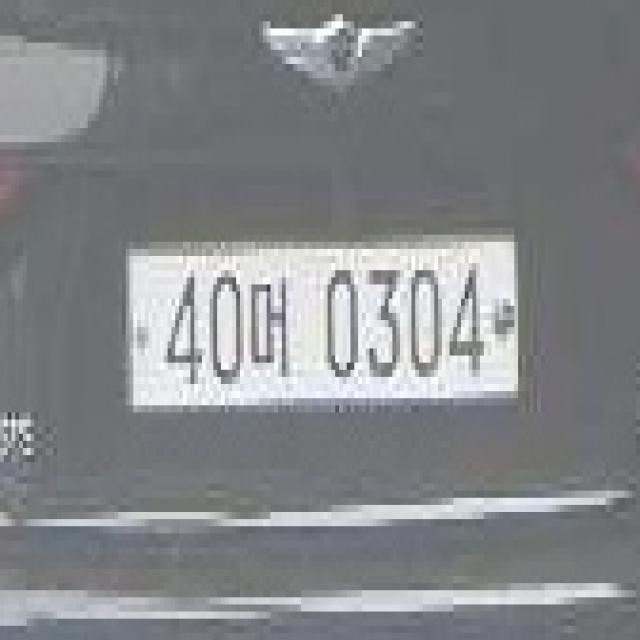0: (320, 263, 362, 384), (206, 270, 244, 384), (404, 263, 442, 377)
3: (366, 263, 400, 384)
4: (156, 270, 202, 384), (442, 263, 484, 377)
license_plate: (118, 228, 522, 406)
meo: (248, 277, 290, 377)
